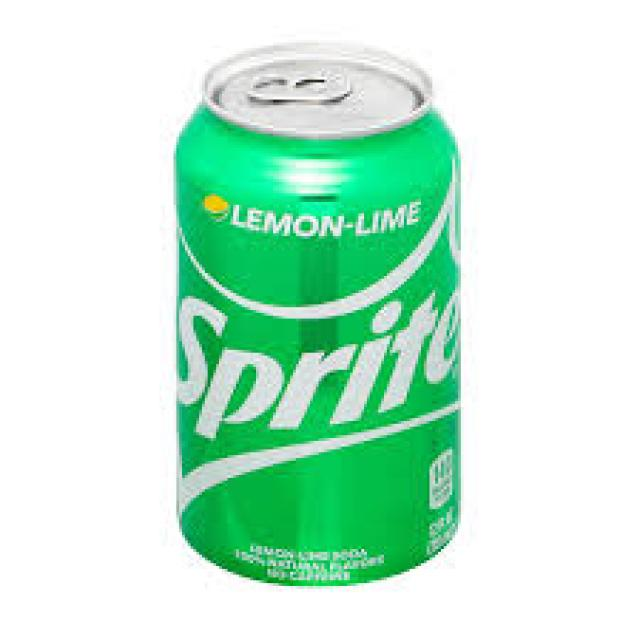aluminum_can: (176, 46, 461, 586)
